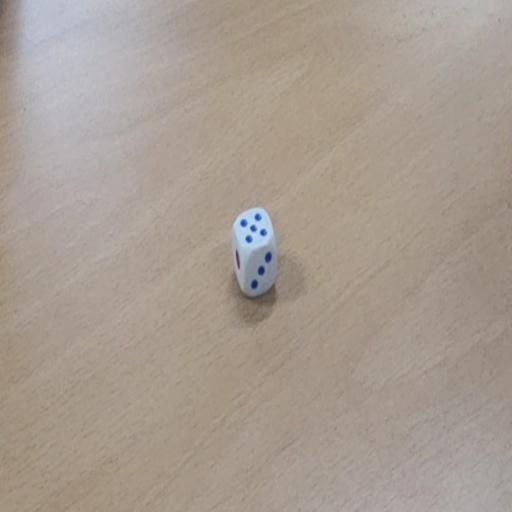dice_5: (230, 206, 278, 300)
